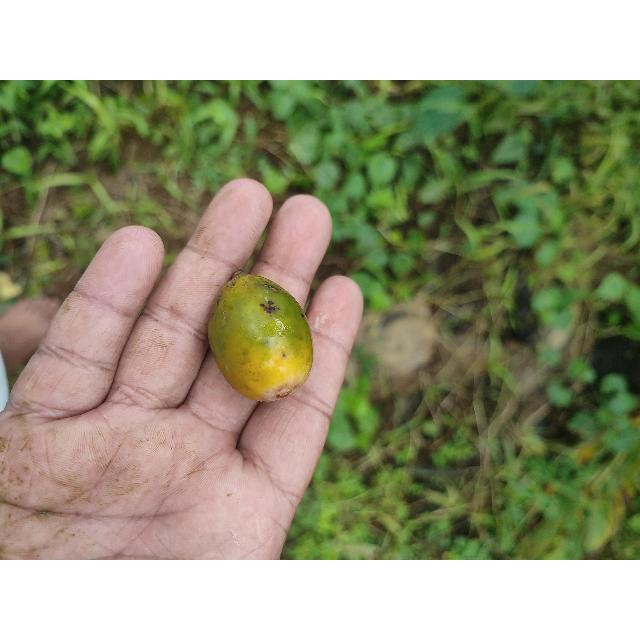damaged: (205, 274, 314, 403)
